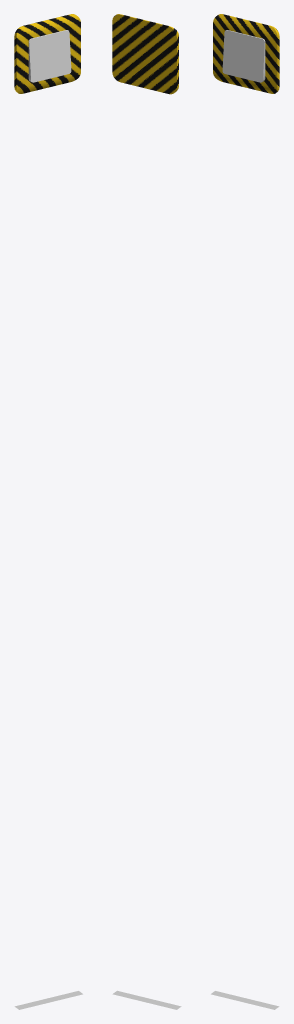
File: button.glb
3 renders of one model, left to right at view 1: azimuth 30°, elevation 25°; view 2: azimuth 150°, elevation 25°; view 3: azimuth 330°, elevation 25°, orthographic.
Visible parts, largest first — view 1: Node3, Node2, Node1; view 2: Node3, Node1; view 3: Node3, Node2, Node1.
Boxes of the visible parts, x1,y1,x2,y2 form: Node3: [14, 14, 80, 93]; Node2: [28, 30, 71, 82]; Node1: [14, 991, 82, 1009]; Node3: [112, 14, 178, 94]; Node1: [112, 990, 181, 1009]; Node3: [213, 14, 279, 93]; Node2: [222, 30, 265, 82]; Node1: [211, 991, 279, 1009].
Size of the model in its own units: 8.5 by 124 by 1.1.
3 materials, 1 textured.
